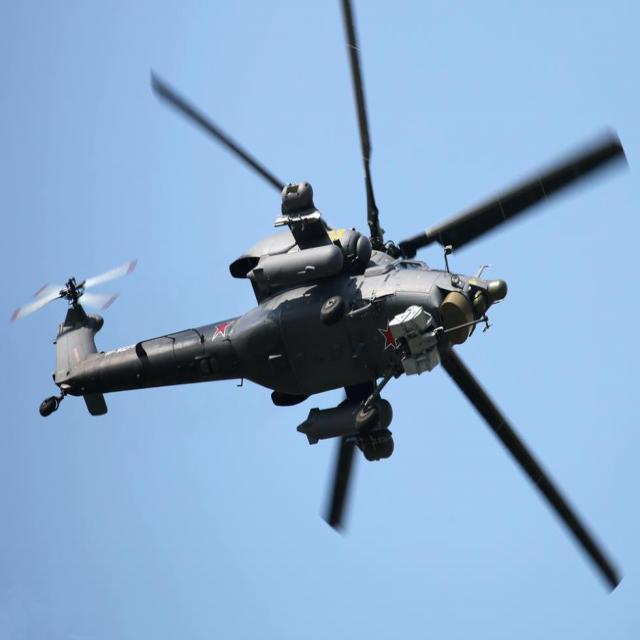MIL_HELO: (13, 7, 638, 620)
